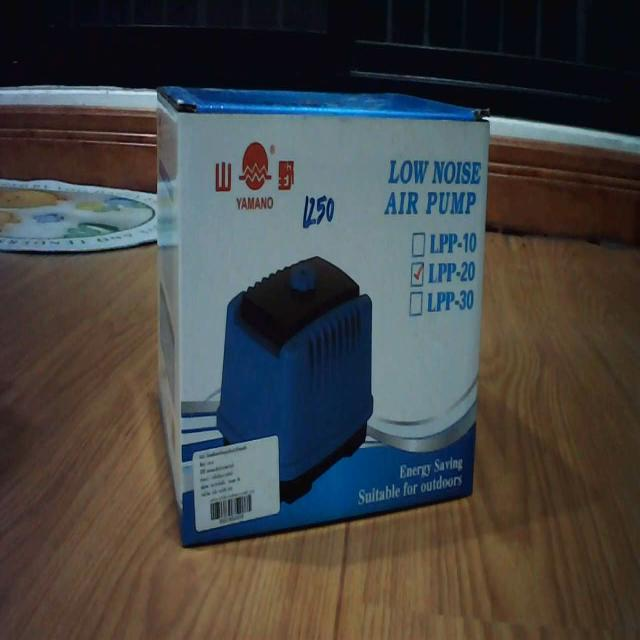YAMANO_LPP_20: (147, 58, 493, 570)
